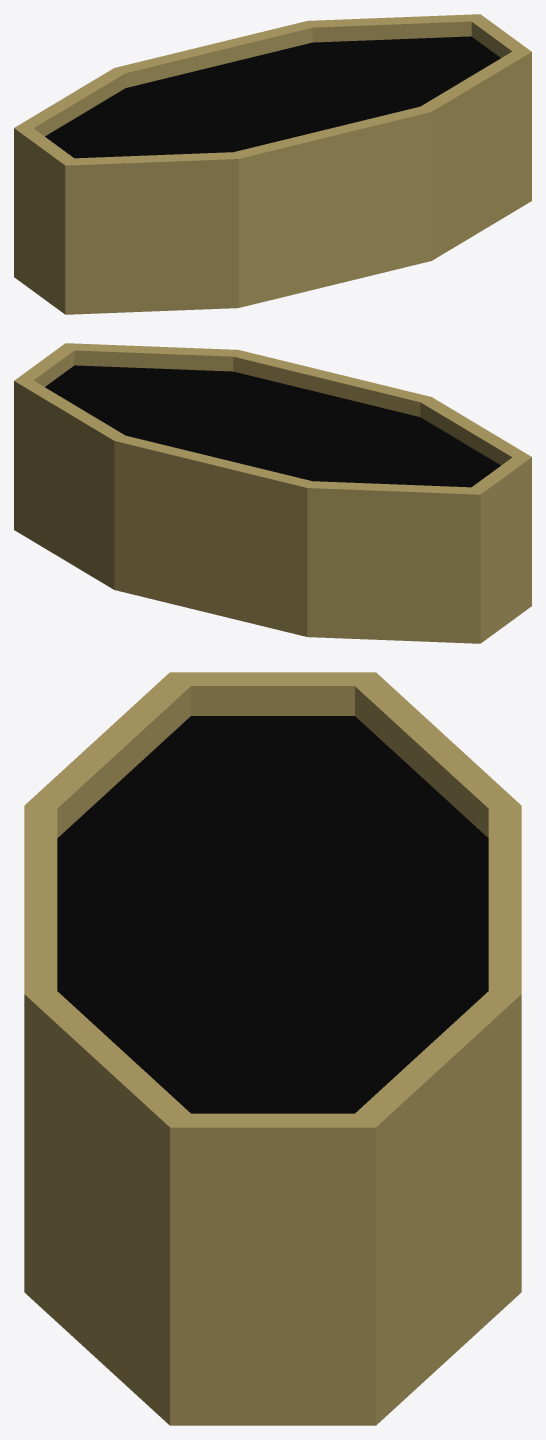
The model's file is VSF.glb.
The picture shows the model from 3 angles, top to bottom: view 1: azimuth 30°, elevation 25°; view 2: azimuth 150°, elevation 25°; view 3: azimuth 270°, elevation 25°; orthographic projection. The views are drawn at different scales.
Visible parts, largest first — view 1: VSF; view 2: VSF; view 3: VSF.
Part boxes in pixels (x1=…): VSF: x1=14, y1=14, x2=531, y2=314; VSF: x1=14, y1=343, x2=531, y2=643; VSF: x1=24, y1=672, x2=521, y2=1425.
Bounding box in the file's own units: 0.0194 × 0.00594 × 0.00897.
